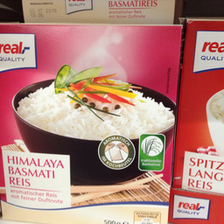rice: (1, 22, 184, 223), (173, 15, 224, 193)
